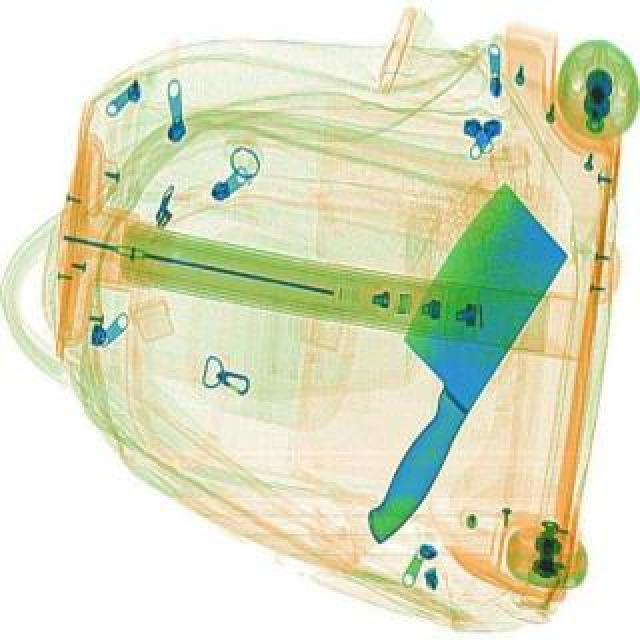knife: (314, 170, 586, 562)
